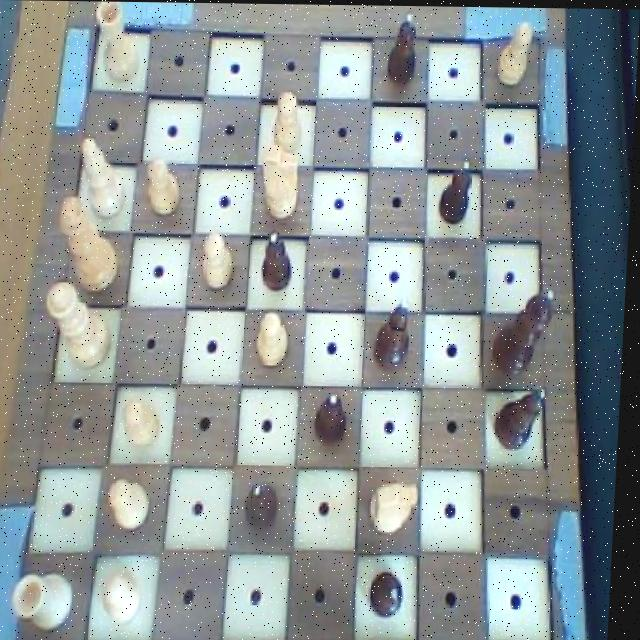bishop: (495, 385, 557, 460), (374, 291, 417, 370)
black-bishop: (491, 281, 564, 382)
black-knight: (381, 9, 424, 88), (440, 151, 482, 229), (312, 385, 356, 453), (259, 225, 298, 296), (243, 475, 289, 534), (367, 565, 413, 620)
black-rook: (79, 133, 132, 221)
white-bishop: (55, 193, 128, 295)
white-king: (257, 139, 306, 223), (372, 472, 427, 540)
white-knight: (490, 18, 536, 90), (110, 476, 158, 536), (104, 565, 151, 626), (271, 82, 309, 157), (123, 393, 170, 452), (145, 153, 185, 217), (254, 308, 295, 367), (201, 229, 240, 288)
white-pawn: (43, 281, 118, 371)
white-queen: (90, 1, 146, 86), (16, 568, 83, 632)
